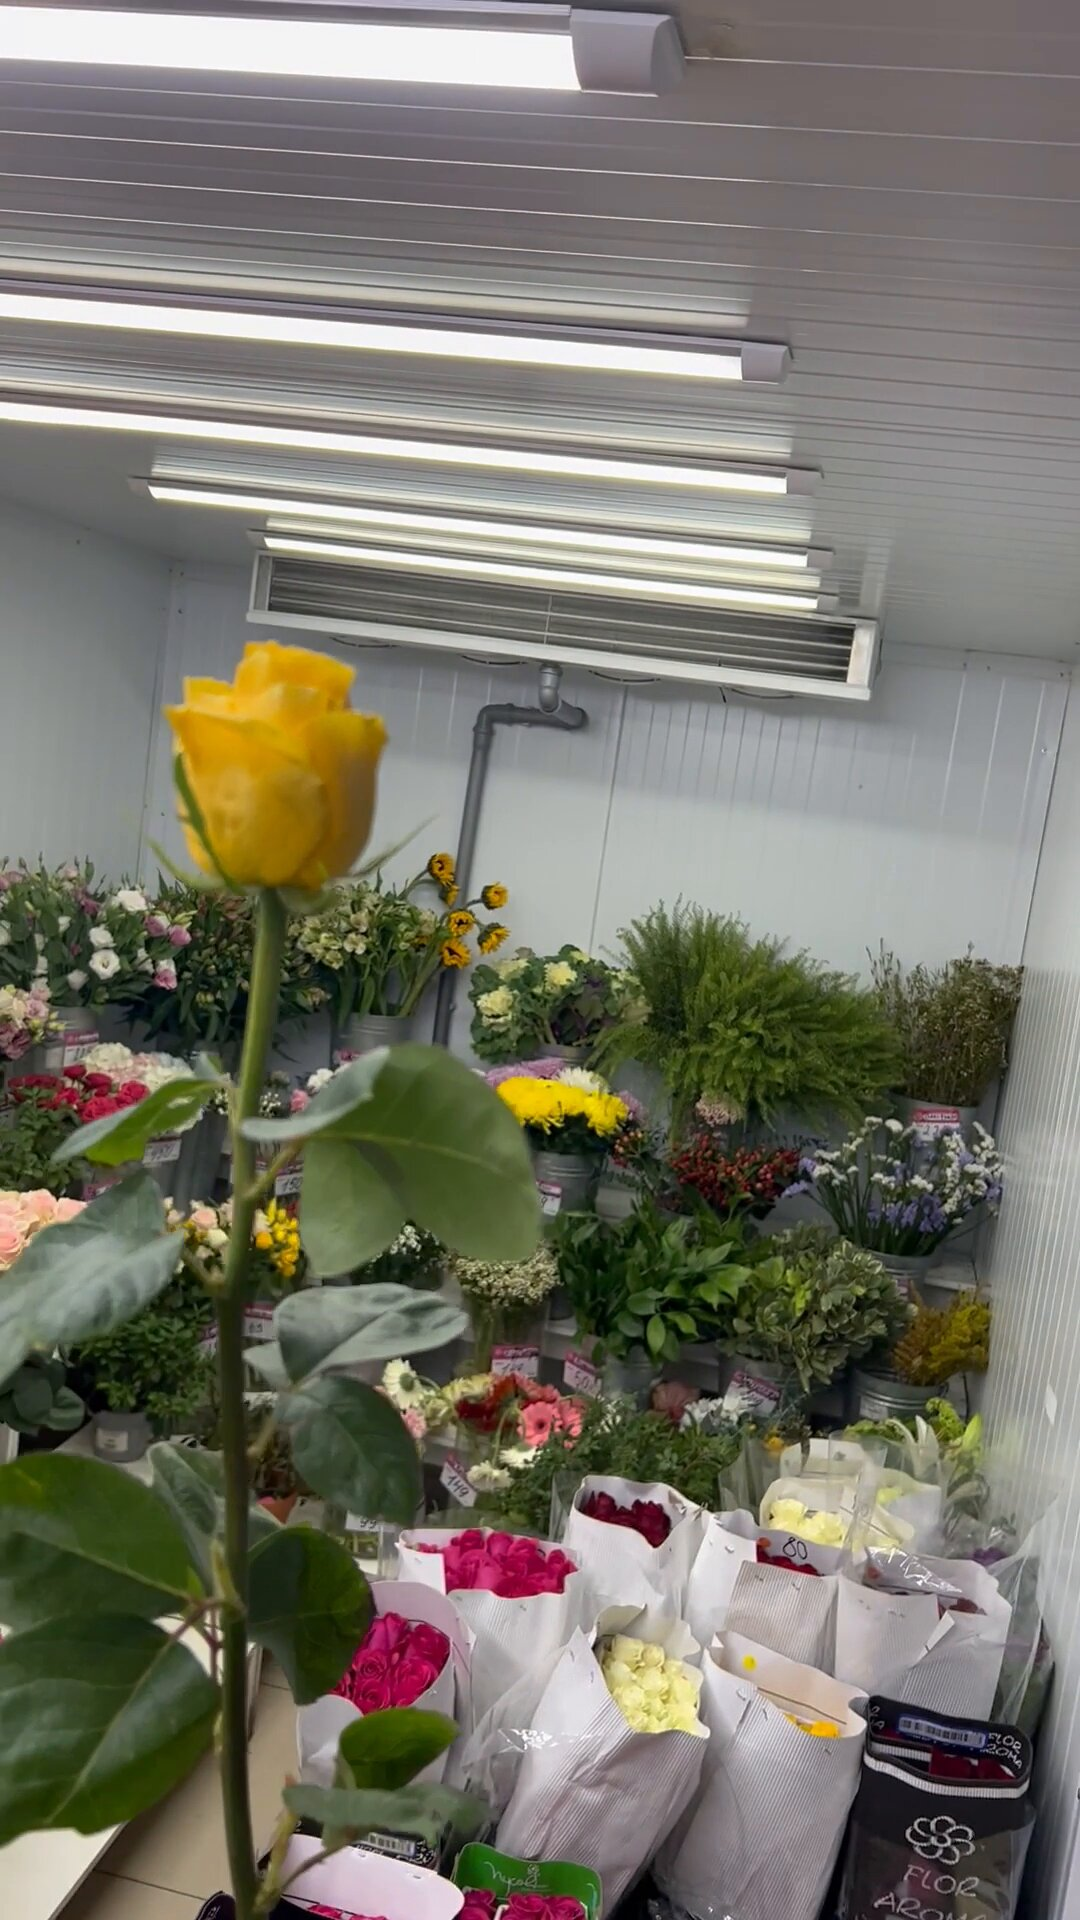rose: (40, 633, 516, 1895)
